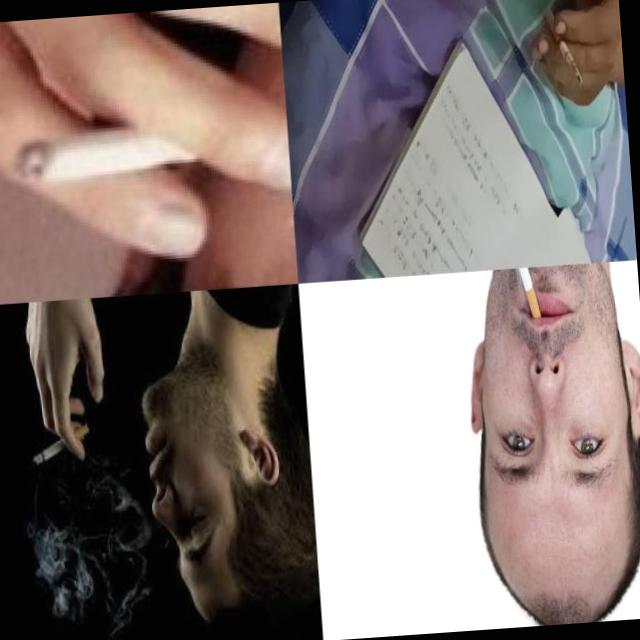cigarette: (22, 294, 124, 464), (11, 114, 232, 184), (545, 6, 584, 90), (507, 267, 542, 322)
